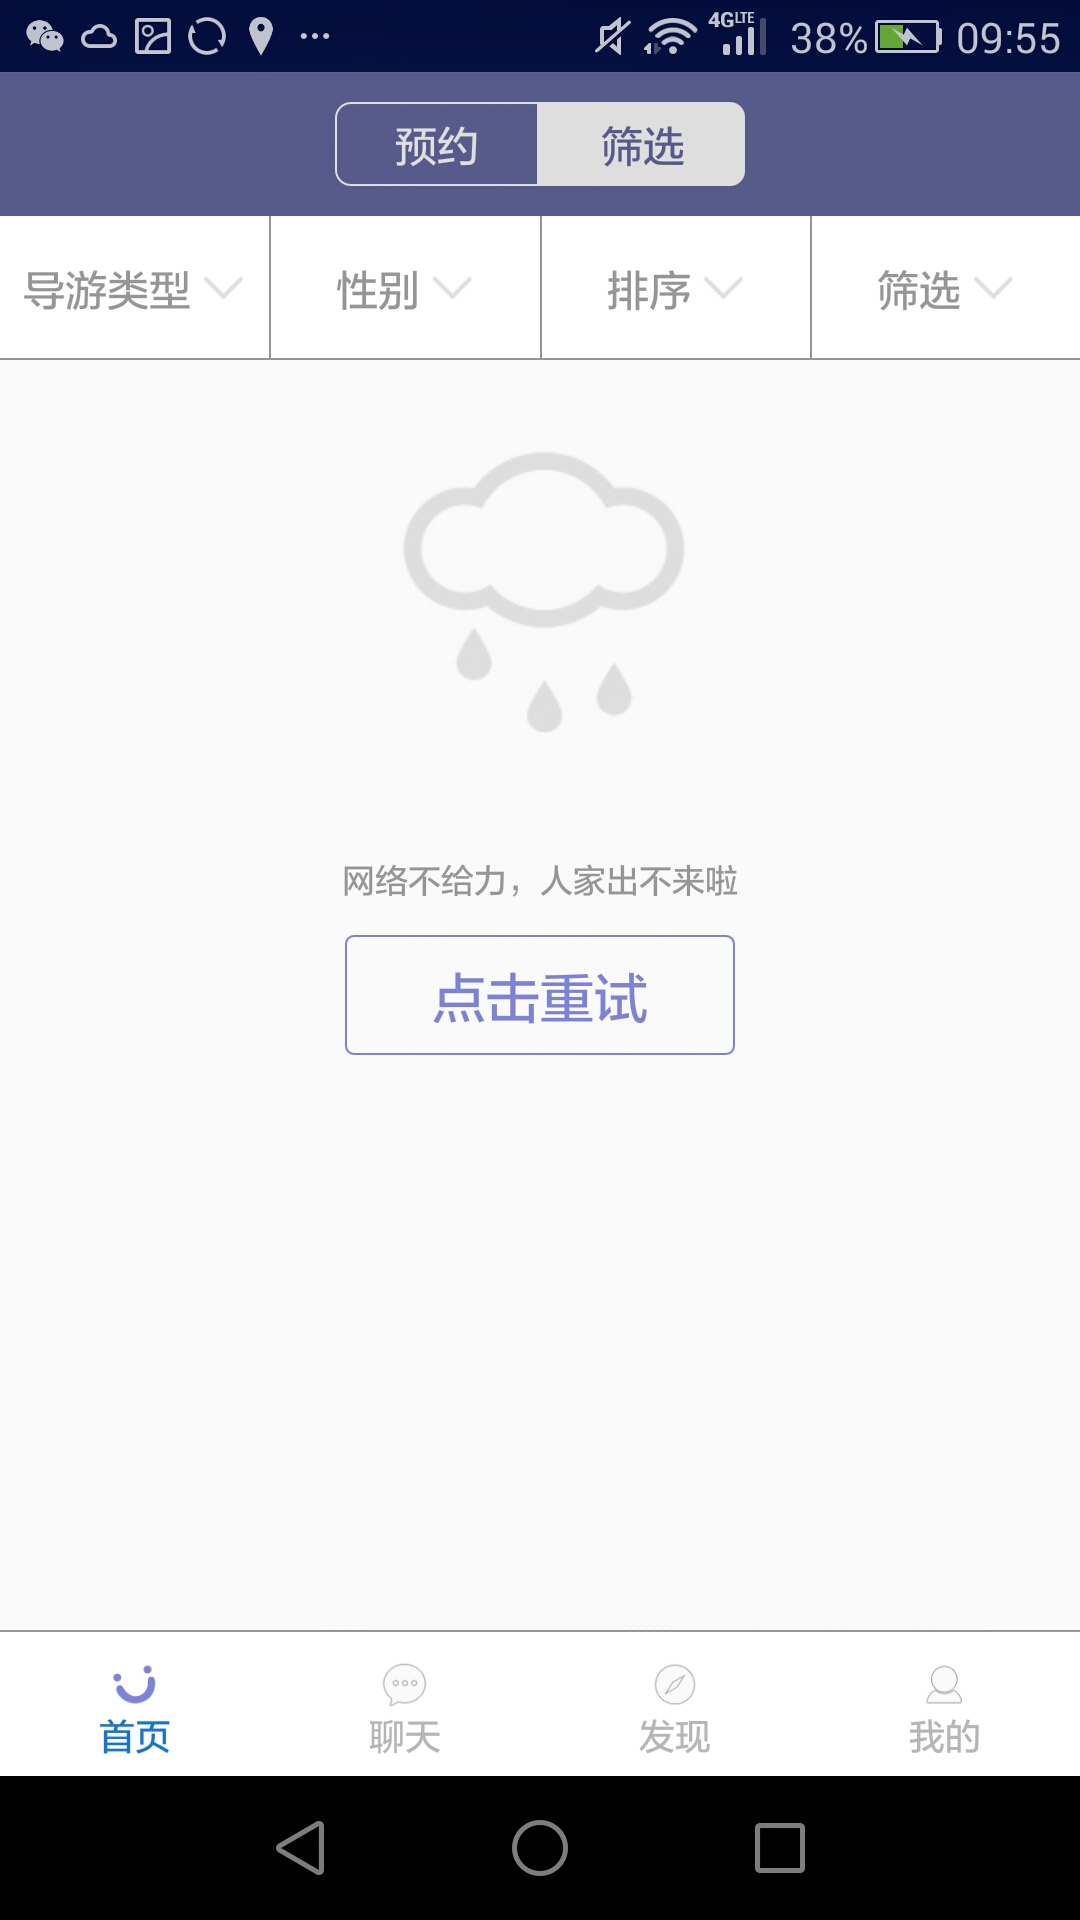button: (524, 94, 777, 206), (328, 98, 551, 194)
